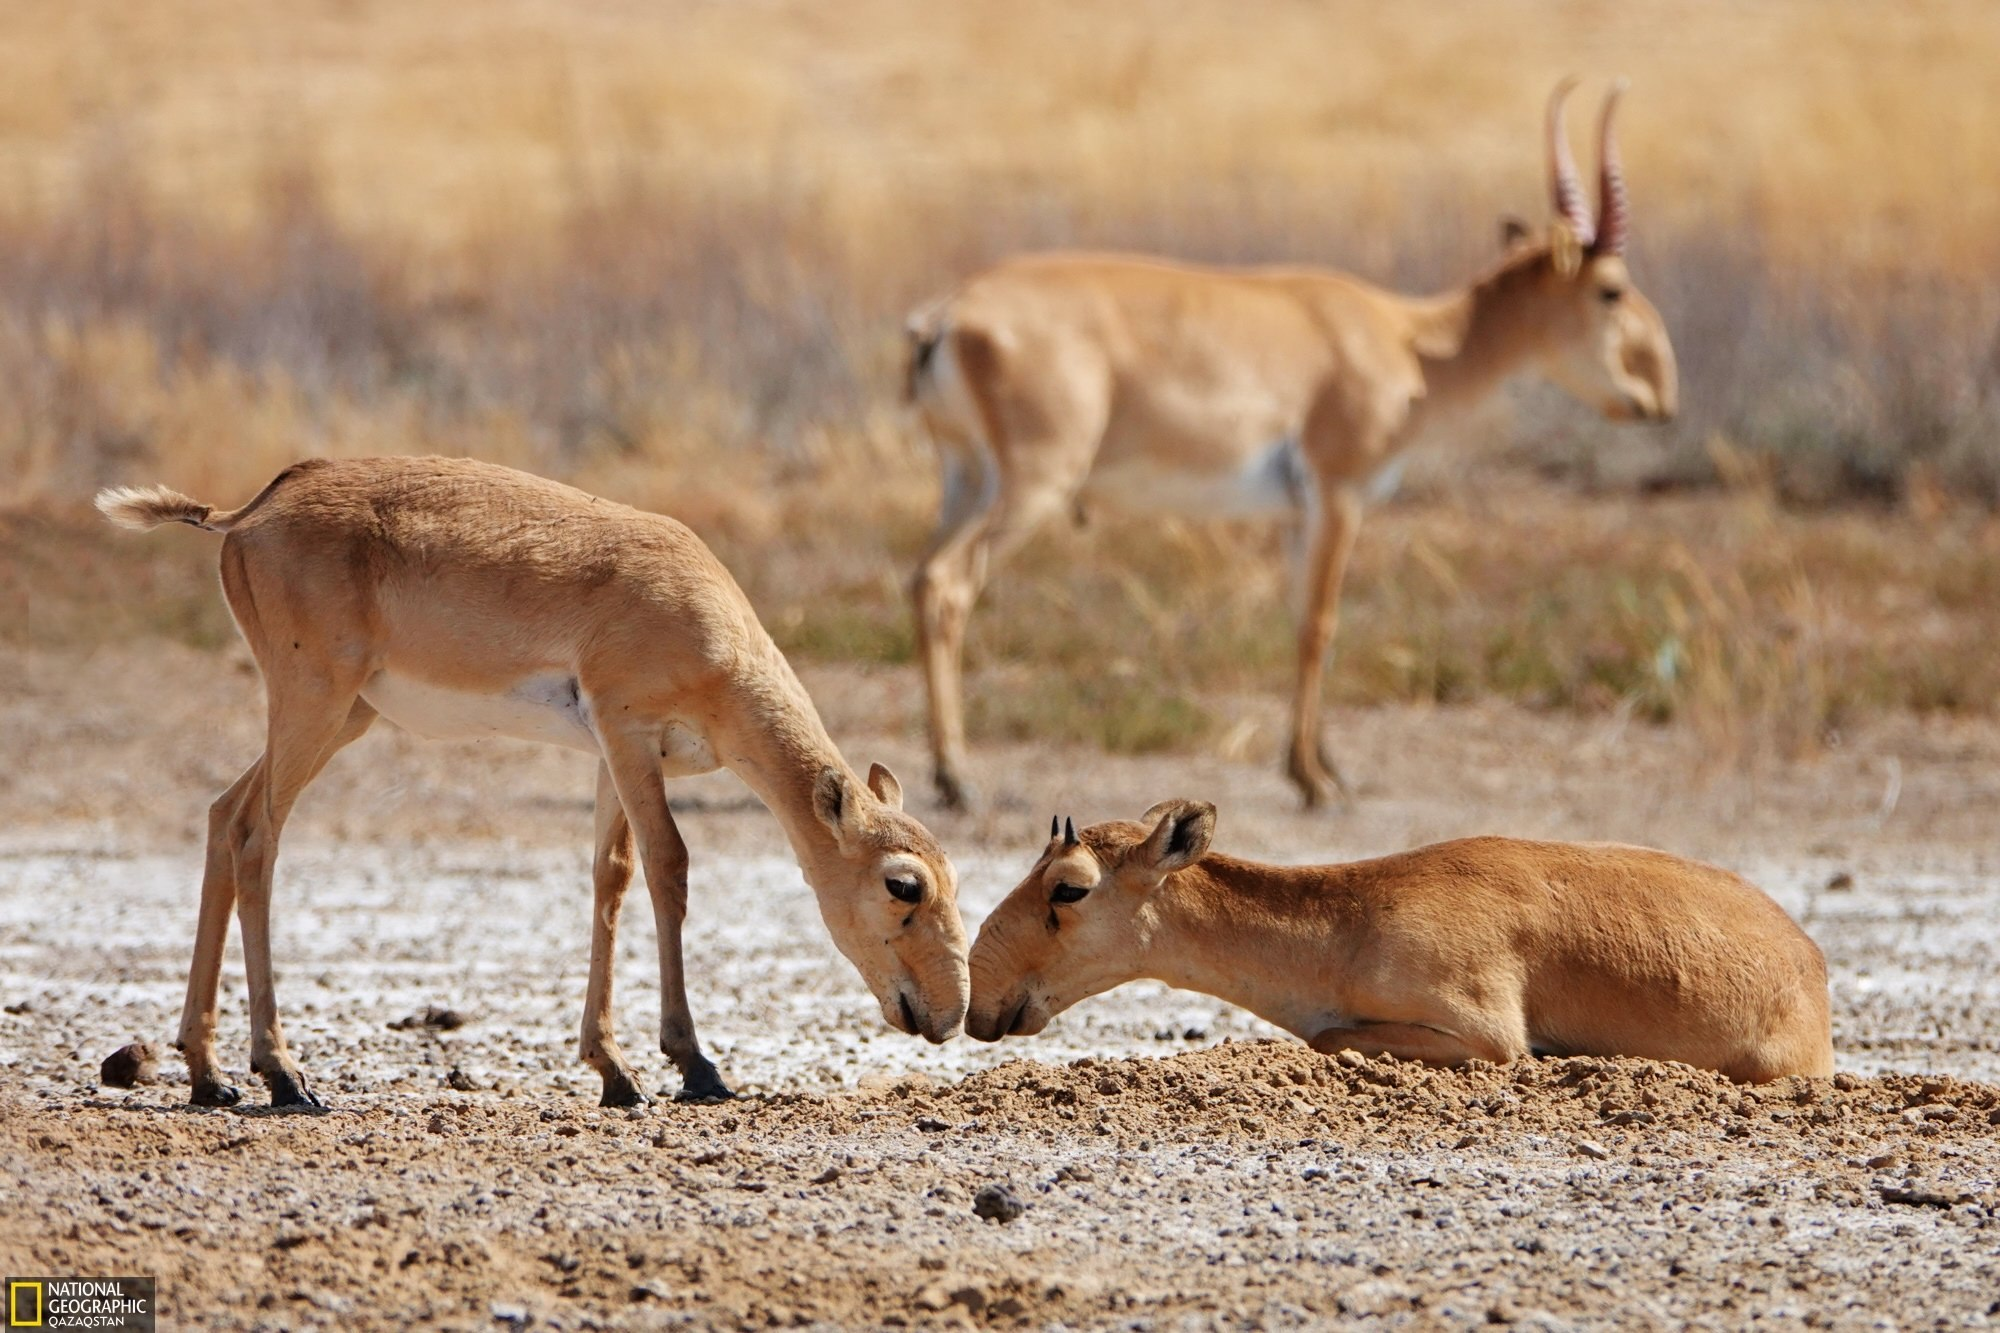saiga: (892, 71, 1691, 835), (94, 449, 975, 1114), (965, 793, 1842, 1128)
